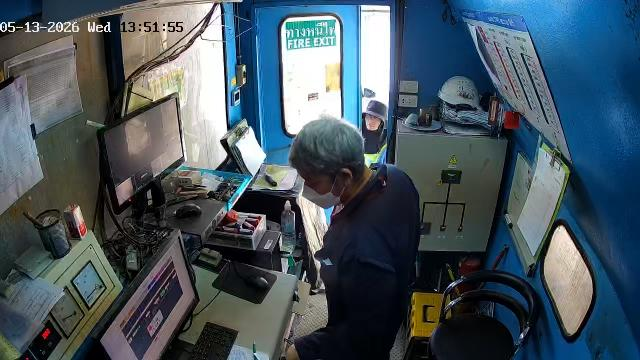Head: (289, 115, 366, 203)
People: (287, 117, 419, 359)
